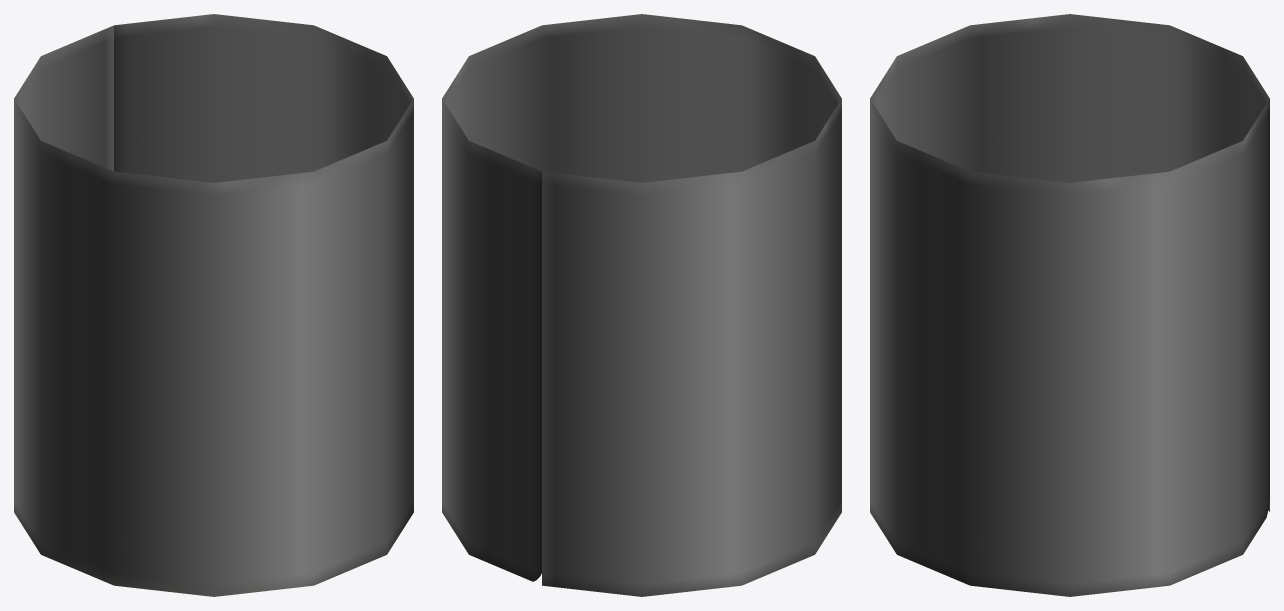
File: crane_tube.obj
3 renders of one model, left to right at view 1: azimuth 30°, elevation 25°; view 2: azimuth 150°, elevation 25°; view 3: azimuth 270°, elevation 25°, orthographic.
Parts seen in each view (by area): view 1: Tube; view 2: Tube; view 3: Tube.
Part boxes in pixels (<box>): Tube: <box>14,14,413,596</box>; Tube: <box>442,14,841,596</box>; Tube: <box>870,14,1269,596</box>.
Bounding box in the file's own units: 0.875 × 1 × 0.875.
